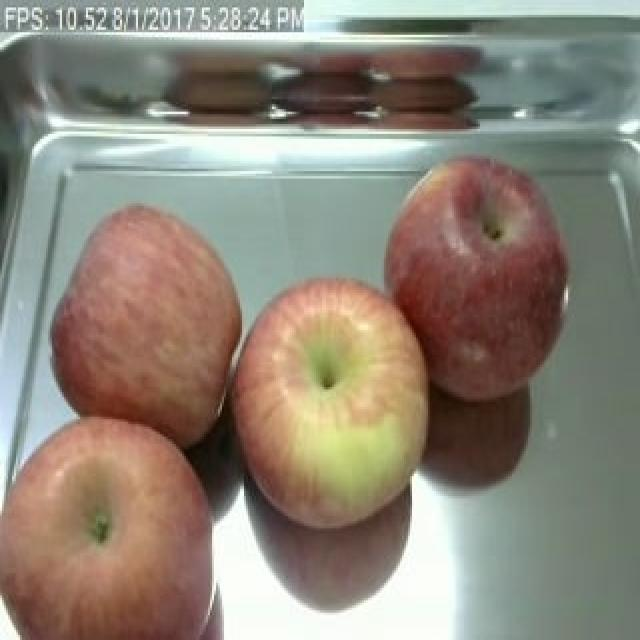Healty Apple: (232, 274, 426, 532), (47, 202, 243, 450), (2, 417, 218, 638), (384, 155, 574, 403)
